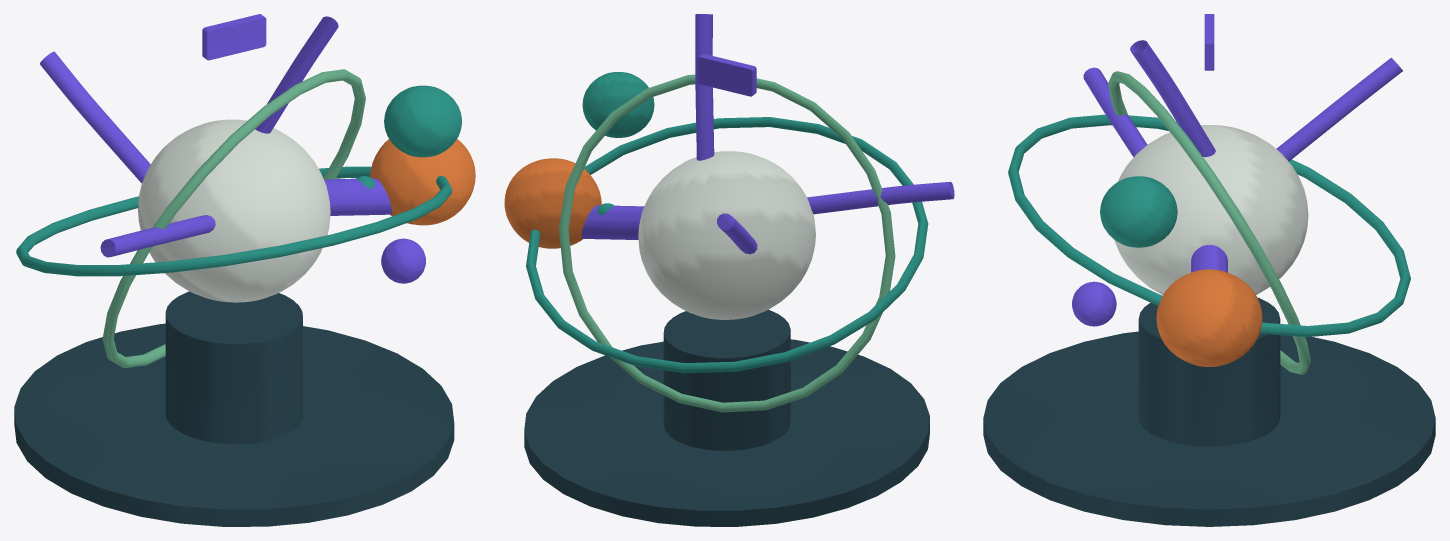
File: 0513_生活中的化学图鉴_钠.glb
3 renders of one model, left to right at view 1: azimuth 30°, elevation 25°; view 2: azimuth 150°, elevation 25°; view 3: azimuth 270°, elevation 25°, orthographic. The views are drawn at different scales.
Visible parts, largest first — view 1: card_0513; view 2: card_0513; view 3: card_0513.
Boxes of the visible parts, x1=… form: card_0513: x1=14, y1=14, x2=475, y2=526; card_0513: x1=504, y1=14, x2=954, y2=526; card_0513: x1=983, y1=14, x2=1435, y2=526.
Size of the model in its own units: 1.06 by 1 by 0.9713.
